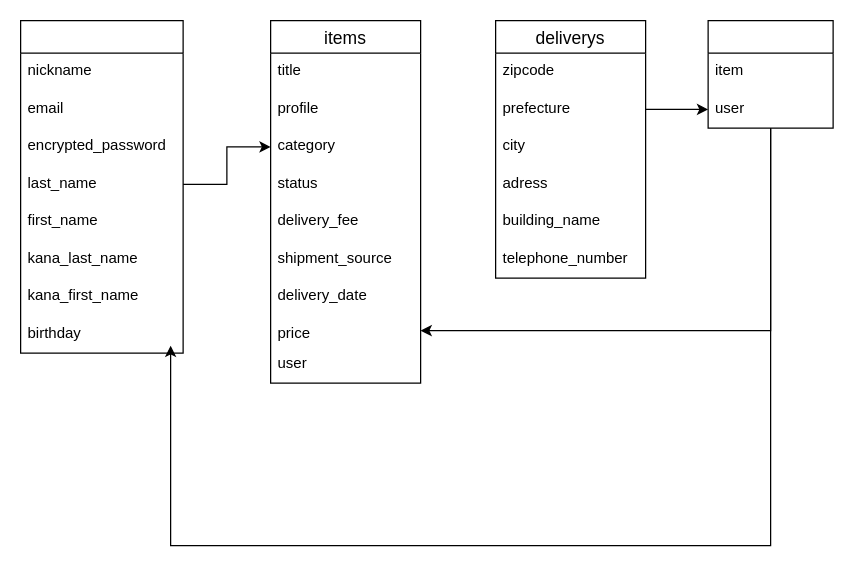
Some shapes in this 854 by 566 pixel diagram are drawn without their labels. The shapes that lost their labels are listed below. From the top down, each one's box as (x1, y1, x2, y2) in pixels, then its label:
(707, 19, 833, 128): buys
(19, 19, 183, 353): users
